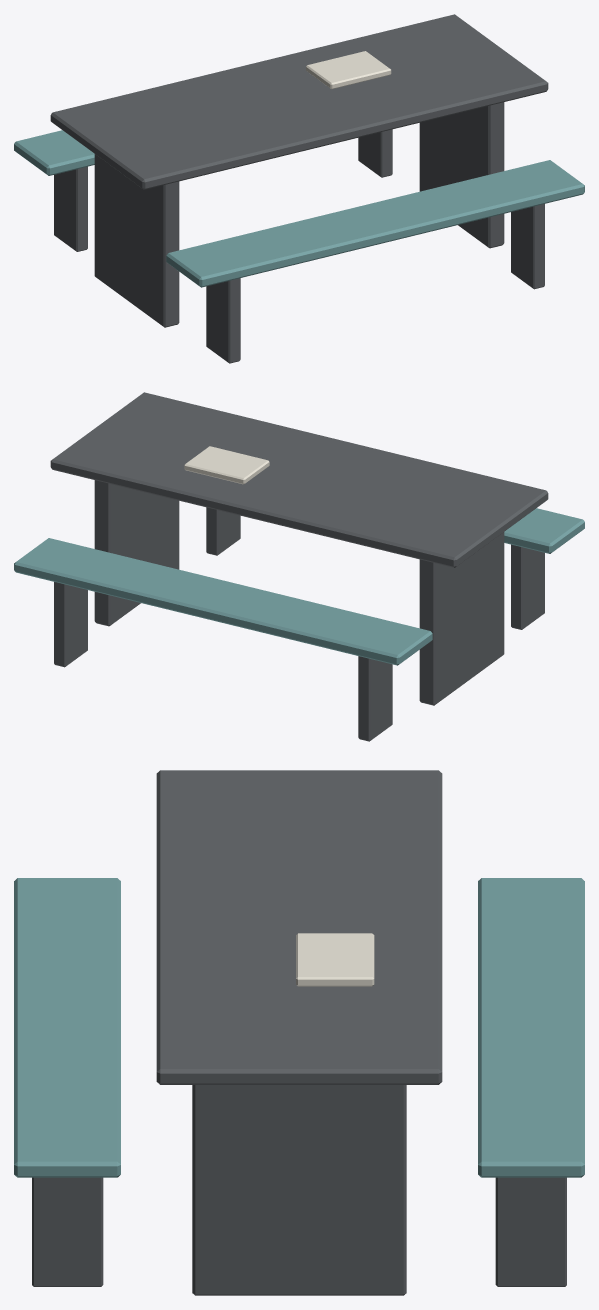
The model's file is mess_table.glb.
The picture shows the model from 3 angles, top to bottom: view 1: azimuth 30°, elevation 25°; view 2: azimuth 150°, elevation 25°; view 3: azimuth 270°, elevation 25°; orthographic projection. The views are drawn at different scales.
Visible parts, largest first — view 1: mess_table; view 2: mess_table; view 3: mess_table.
Part boxes in pixels (left/top/right/bottom): mess_table: left=14, top=14, right=584, bottom=363; mess_table: left=14, top=392, right=584, bottom=741; mess_table: left=14, top=770, right=584, bottom=1295.
Size of the model in its own units: 2 by 0.805 by 1.6.
